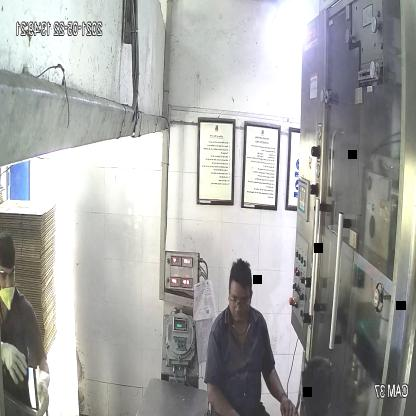goggles: (226, 289, 256, 311)
